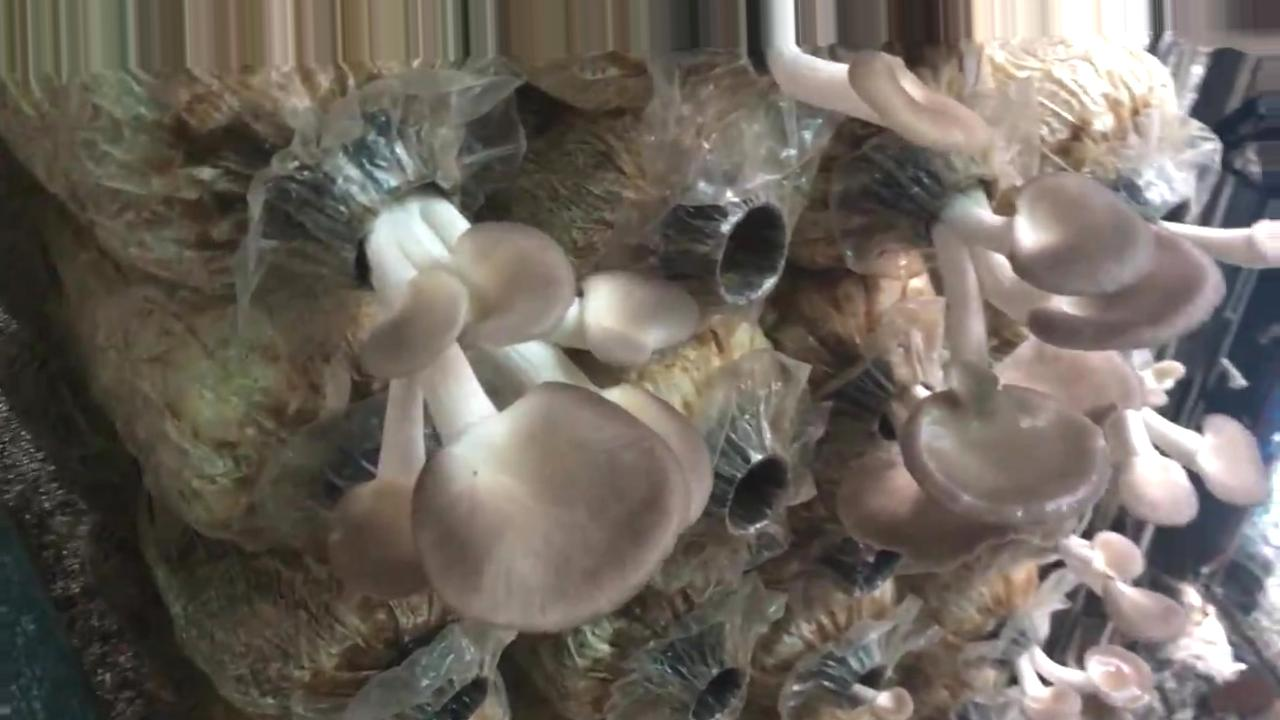nam: (324, 146, 711, 632), (900, 145, 1280, 522), (763, 1, 987, 155), (838, 442, 1092, 555), (1102, 375, 1266, 527), (1052, 528, 1189, 639), (1003, 621, 1152, 720), (831, 646, 916, 720)
